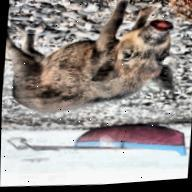boar: (1, 0, 180, 125)
